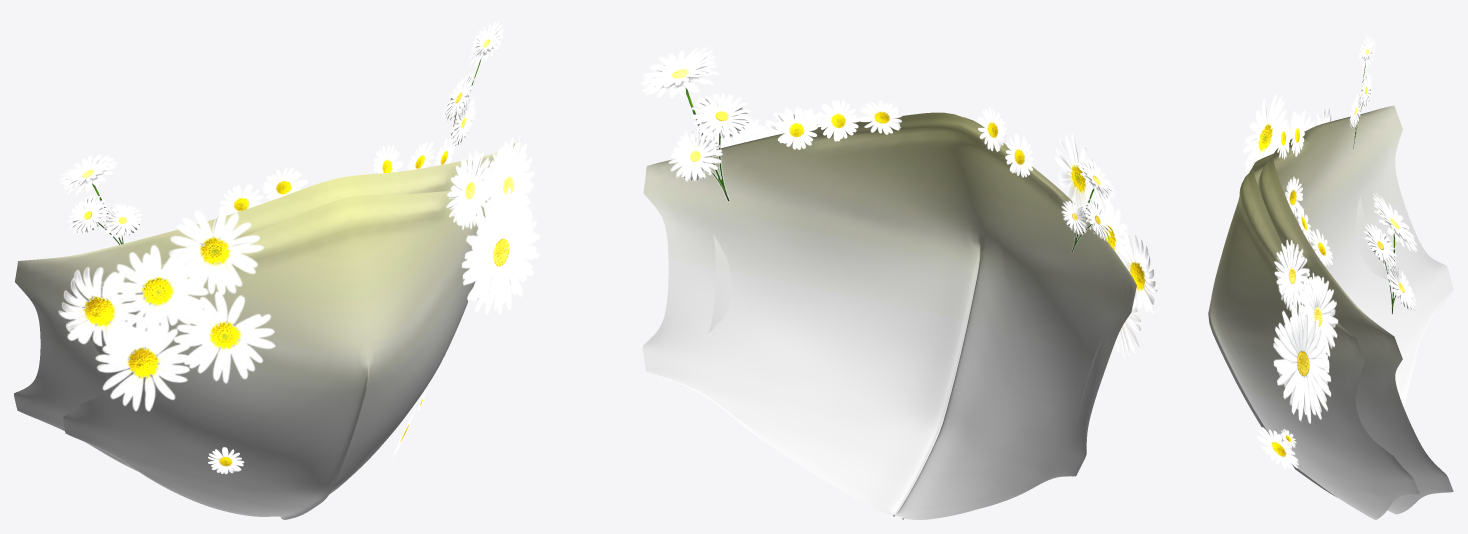
The model's file is flowermask2.gltf.
3 renders of one model, left to right at view 1: azimuth 30°, elevation 25°; view 2: azimuth 150°, elevation 25°; view 3: azimuth 270°, elevation 25°, orthographic. The views are drawn at different scales.
Parts seen in each view (by area): view 1: 口罩, 平面, 口罩样式二, 平面.5, 平面.1, 平面.7, 平面.16, 平面.6, 平面.4, 平面.17; view 2: 口罩样式二, 平面.7, 平面, 平面.1, 口罩, 平面.5, 平面.18, 平面.2, 平面.17, 平面.6, 平面.16; view 3: 口罩样式二, 口罩, 平面.5, 平面.7, 平面, 平面.1, 平面.3, 平面.18, 平面.17, 平面.16, 平面.6, 平面.2.
Boxes of the visible parts, <box> form: 口罩: <box>63,191,490,519</box>; 平面: <box>58,205,275,411</box>; 口罩样式二: <box>14,138,521,471</box>; 平面.5: <box>446,136,539,314</box>; 平面.1: <box>59,154,143,244</box>; 平面.7: <box>443,20,503,146</box>; 平面.16: <box>262,168,307,200</box>; 平面.6: <box>220,184,263,215</box>; 平面.4: <box>208,447,244,474</box>; 平面.17: <box>373,145,402,173</box>; 口罩样式二: <box>642,112,1136,517</box>; 平面.7: <box>640,47,753,201</box>; 平面: <box>1054,133,1157,357</box>; 平面.1: <box>1061,157,1116,252</box>; 口罩: <box>708,117,1104,519</box>; 平面.5: <box>703,107,825,148</box>; 平面.18: <box>775,108,817,149</box>; 平面.2: <box>816,100,859,141</box>; 平面.17: <box>858,100,902,134</box>; 平面.6: <box>1005,133,1034,177</box>; 平面.16: <box>977,107,1006,151</box>; 口罩样式二: <box>1258,105,1453,514</box>; 口罩: <box>1208,153,1419,519</box>; 平面.5: <box>1273,239,1338,423</box>; 平面.7: <box>1363,192,1417,314</box>; 平面: <box>1243,94,1331,171</box>; 平面.1: <box>1349,36,1375,149</box>; 平面.3: <box>1257,427,1298,470</box>; 平面.18: <box>1310,229,1332,266</box>; 平面.17: <box>1285,176,1302,216</box>; 平面.16: <box>1275,117,1290,159</box>; 平面.6: <box>1290,114,1304,156</box>; 平面.2: <box>1296,203,1311,242</box>.
Size of the model in its own units: 9.24 by 7.44 by 3.76.
Materials: 5 (5 with a texture image).
